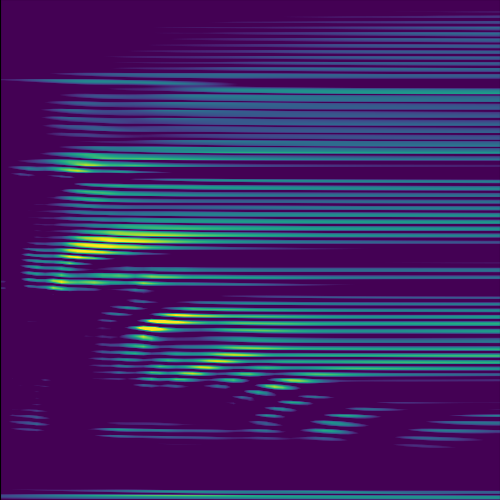semblance: (55, 216, 207, 268), (130, 298, 230, 346), (177, 343, 269, 382), (54, 144, 111, 180), (254, 372, 329, 394)
